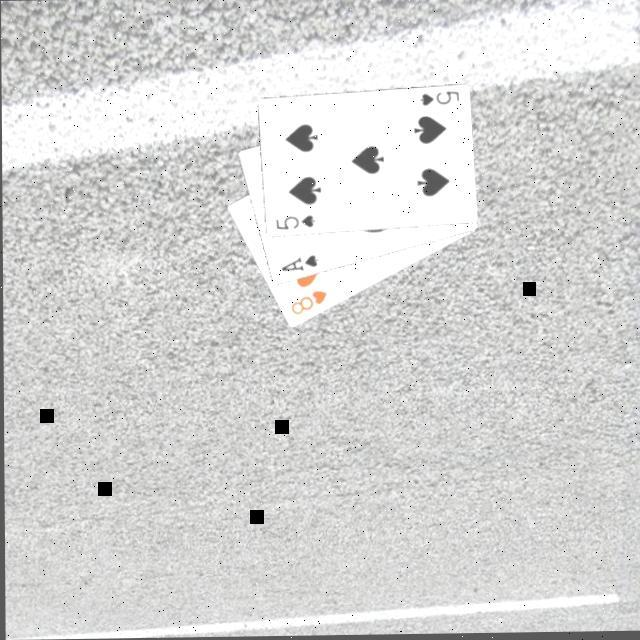5S: (416, 90, 462, 112), (272, 213, 318, 234)
8H: (288, 289, 330, 320)
AS: (278, 254, 322, 276)
